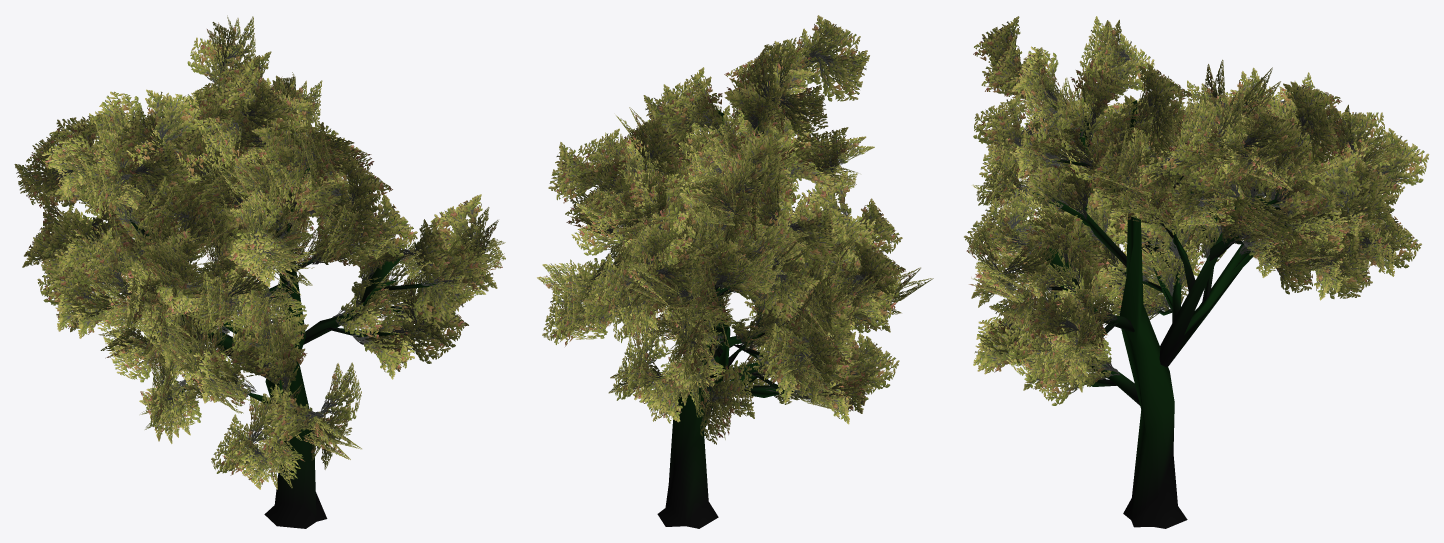
The model's file is tree6_2_afsTREE_xao_xlprl_LOD2.fbx.
The picture shows the model from 3 angles, left to right: view 1: azimuth 30°, elevation 25°; view 2: azimuth 150°, elevation 25°; view 3: azimuth 270°, elevation 25°; orthographic projection.
Parts seen in each view (by area): view 1: branch.001_xw25_xt15_xp15, leaf1.312, leaf1.018, leaf1.096, leaf1.047, leaf1.155, leaf.036, leaf1.029, leaf1.041, leaf.161, leaf1.161, leaf.023 (+78 smaller); view 2: branch.001_xw25_xt15_xp15, leaf1.054, leaf1.144, leaf1.156, leaf1.161, leaf1.089, leaf1.095, leaf1.053, leaf1.060, leaf1.139, leaf1.072, leaf1.120 (+97 smaller); view 3: branch.001_xw25_xt15_xp15, branch.022_xw29_xt21_xp27, leaf1.179, leaf1.083, leaf1.107, leaf1.180, leaf1.185, leaf1.360, leaf.041, leaf1.211, leaf1.329, leaf1.077 (+74 smaller).
Part boxes in pixels (x1,y1,x2,y2): branch.001_xw25_xt15_xp15: [264, 229, 327, 528]; leaf1.312: [146, 89, 202, 144]; leaf1.018: [414, 271, 473, 328]; leaf1.096: [243, 83, 298, 136]; leaf1.047: [363, 194, 417, 256]; leaf1.155: [134, 147, 194, 197]; leaf.036: [271, 393, 324, 445]; leaf1.029: [410, 219, 454, 282]; leaf1.041: [339, 158, 390, 212]; leaf.161: [80, 236, 123, 285]; leaf1.161: [73, 227, 121, 285]; leaf.023: [436, 195, 480, 246]; branch.001_xw25_xt15_xp15: [657, 110, 730, 528]; leaf1.054: [815, 54, 869, 101]; leaf1.144: [764, 270, 813, 323]; leaf1.156: [786, 214, 837, 267]; leaf1.161: [854, 241, 905, 294]; leaf1.089: [845, 336, 899, 389]; leaf1.095: [772, 95, 828, 135]; leaf1.053: [805, 19, 860, 64]; leaf1.060: [792, 127, 848, 172]; leaf1.139: [715, 242, 764, 299]; leaf1.072: [711, 360, 754, 418]; leaf1.120: [753, 323, 807, 380]; branch.001_xw25_xt15_xp15: [1119, 100, 1187, 528]; branch.022_xw29_xt21_xp27: [1159, 198, 1250, 366]; leaf1.179: [1341, 177, 1395, 226]; leaf1.083: [1377, 128, 1429, 185]; leaf1.107: [1321, 237, 1372, 296]; leaf1.180: [1303, 153, 1356, 212]; leaf1.185: [1283, 83, 1340, 130]; leaf1.360: [1244, 113, 1301, 151]; leaf.041: [979, 103, 1025, 149]; leaf1.211: [1144, 240, 1202, 295]; leaf1.329: [1139, 65, 1190, 115]; leaf1.077: [1369, 213, 1421, 268].
Size of the model in its own units: 7.22 by 8.78 by 7.87.
